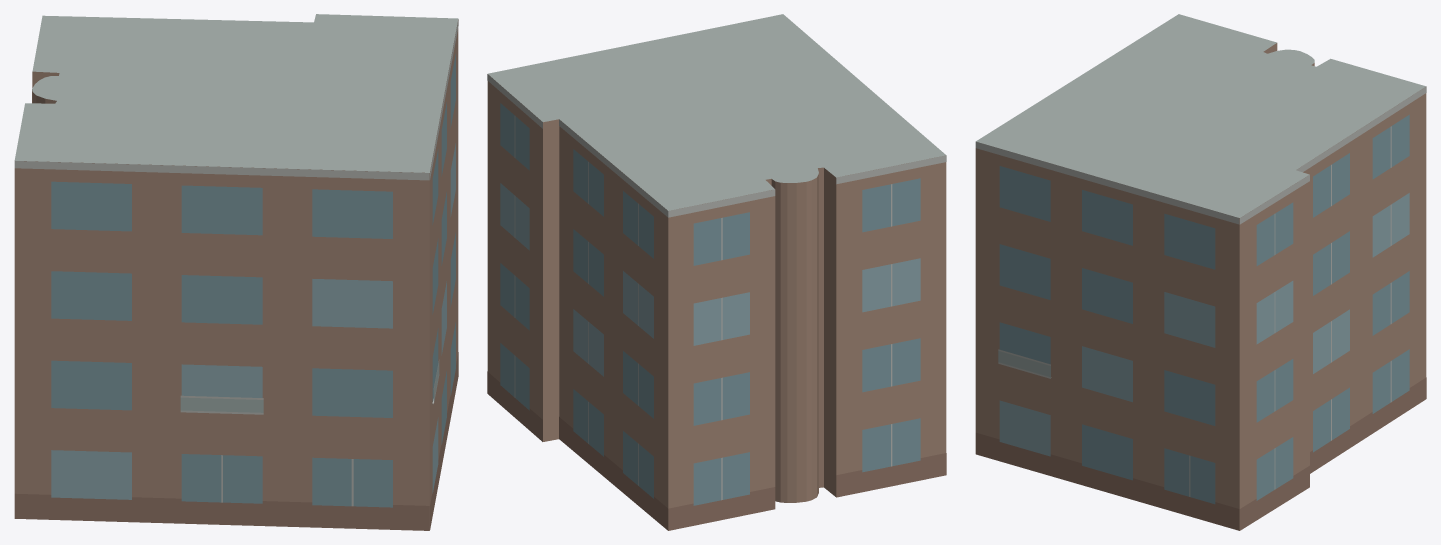
File: survey-upis-33045946.glb
The picture shows the model from 3 angles, left to right: view 1: azimuth 30°, elevation 25°; view 2: azimuth 150°, elevation 25°; view 3: azimuth 270°, elevation 25°; orthographic projection. The views are drawn at different scales.
Parts seen in each view (by area): view 1: survey-upis-33045946.tmp; view 2: survey-upis-33045946.tmp; view 3: survey-upis-33045946.tmp.
Boxes of the visible parts, box(x1,y1,x2,y2) form: survey-upis-33045946.tmp: box(14, 14, 458, 530); survey-upis-33045946.tmp: box(487, 14, 946, 530); survey-upis-33045946.tmp: box(975, 14, 1426, 530).
Size of the model in its own units: 16.24 by 11.6 by 15.16.
